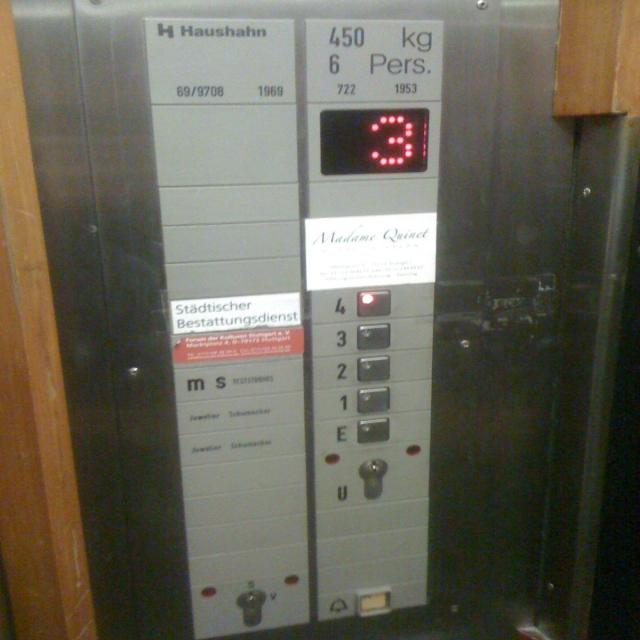1: (306, 376, 436, 422)
2: (307, 312, 436, 360)
3: (307, 345, 436, 391)
4: (307, 281, 436, 325)
E: (306, 407, 436, 453)
alarm: (314, 576, 428, 623)
keyhole: (232, 588, 272, 628), (357, 456, 392, 501)
led: (317, 105, 431, 178)
